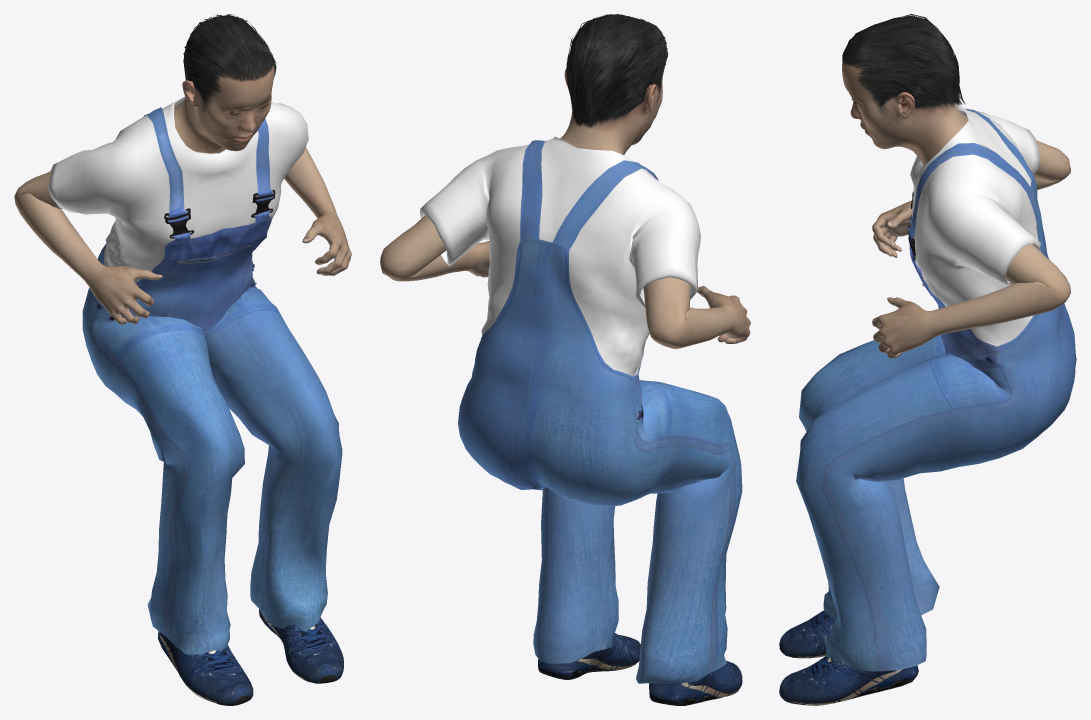
File: uomo-04.glb
The picture shows the model from 3 angles, left to right: view 1: azimuth 30°, elevation 25°; view 2: azimuth 150°, elevation 25°; view 3: azimuth 270°, elevation 25°; orthographic projection. The views are drawn at different scales.
Visible parts, largest first — view 1: Human.male_worksuit01, Human, Human.shoes06, Human.short04; view 2: Human.male_worksuit01, Human, Human.short04, Human.shoes06; view 3: Human.male_worksuit01, Human, Human.short04, Human.shoes06.
Part boxes in pixels (bbox=[...]): Human.male_worksuit01: bbox=[48, 96, 342, 654]; Human: bbox=[14, 65, 351, 324]; Human.shoes06: bbox=[158, 609, 343, 705]; Human.short04: bbox=[183, 14, 276, 111]; Human.male_worksuit01: bbox=[420, 136, 742, 684]; Human: bbox=[380, 69, 750, 349]; Human.short04: bbox=[566, 14, 668, 128]; Human.shoes06: bbox=[538, 633, 742, 705]; Human.male_worksuit01: bbox=[796, 106, 1076, 671]; Human: bbox=[842, 56, 1070, 358]; Human.short04: bbox=[842, 14, 965, 114]; Human.shoes06: bbox=[779, 610, 918, 705].
Size of the model in its own units: 0.6236 by 1.36 by 0.5593.
Materials: 12 (12 with a texture image).
